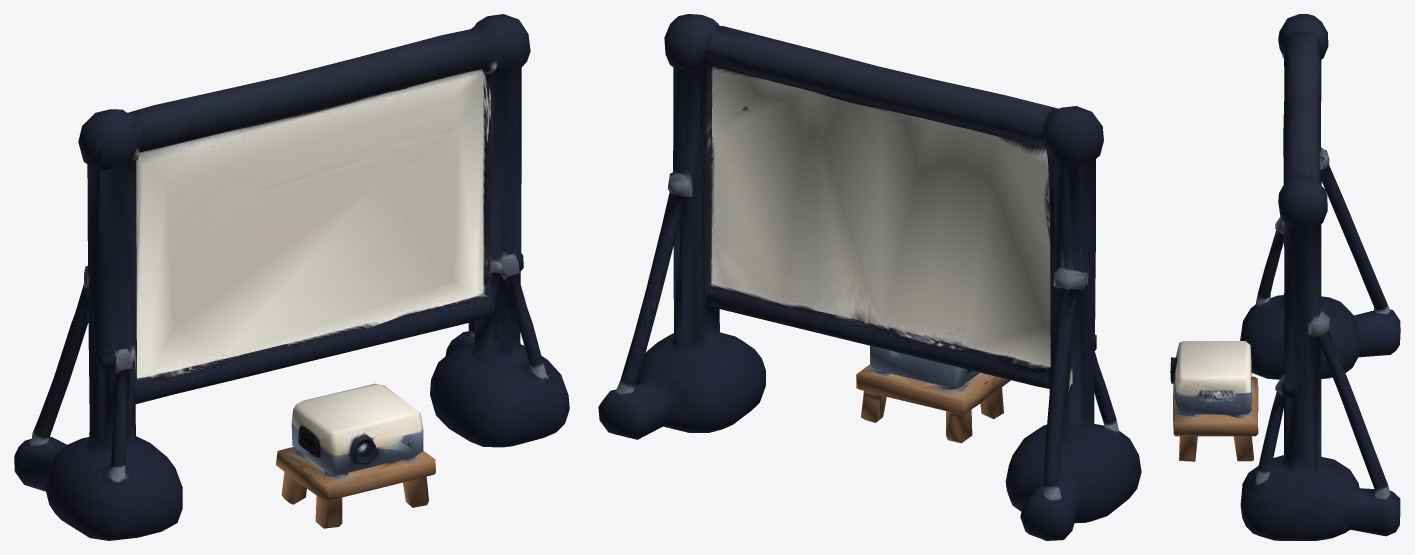
Rendered from cinema.glb.
3 renders of one model, left to right at view 1: azimuth 30°, elevation 25°; view 2: azimuth 150°, elevation 25°; view 3: azimuth 270°, elevation 25°, orthographic. The views are drawn at different scales.
Parts seen in each view (by area): view 1: model; view 2: model; view 3: model.
Boxes of the visible parts, x1,y1,x2,y2 form: model: (14, 14, 569, 540); model: (598, 14, 1141, 540); model: (1170, 14, 1400, 540).
Size of the model in its own units: 1.89 by 1.49 by 0.8952.
Materials: 1 (1 with a texture image).
